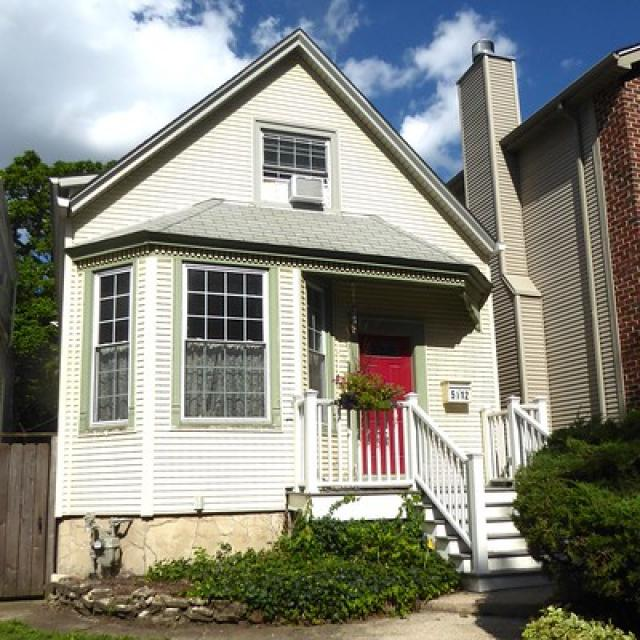Normal_building: (43, 28, 552, 598)
